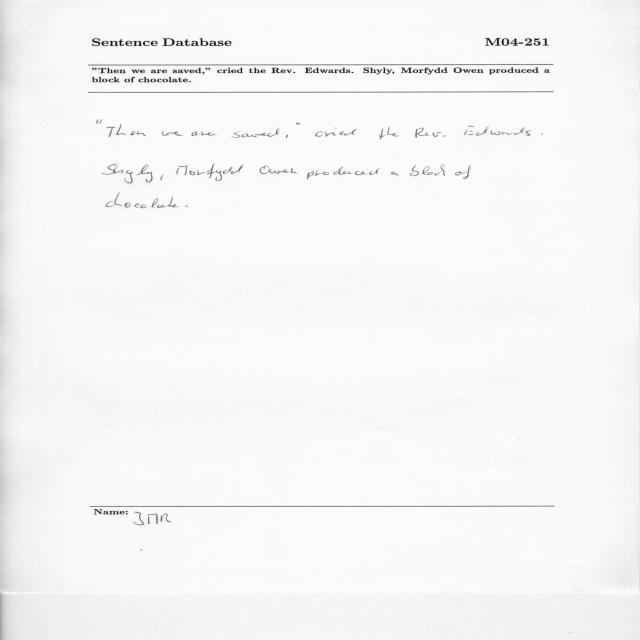word: (177, 164, 244, 181), (106, 193, 179, 208), (103, 164, 153, 183), (307, 167, 380, 179), (464, 126, 531, 136), (106, 124, 146, 137), (231, 128, 280, 138), (410, 165, 445, 176), (315, 128, 357, 137), (415, 128, 446, 138), (260, 166, 298, 174), (379, 127, 399, 139), (455, 166, 471, 180), (162, 131, 183, 136), (191, 132, 217, 136), (391, 172, 399, 176), (97, 120, 102, 124), (160, 175, 163, 181), (296, 122, 300, 125), (286, 134, 288, 138), (541, 133, 543, 134), (186, 205, 187, 207)
